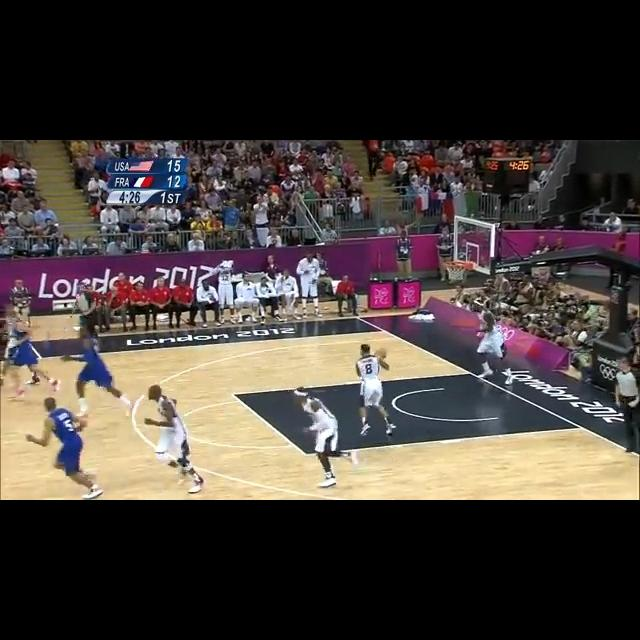hoop: (444, 257, 473, 284)
